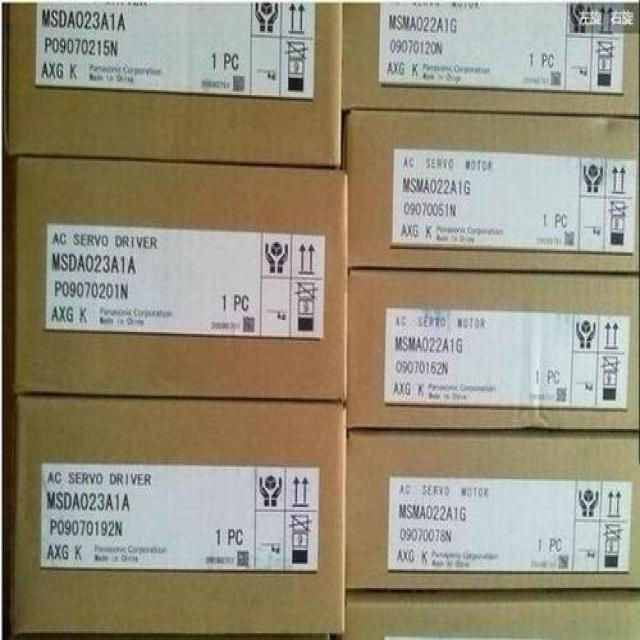box: (3, 153, 347, 403), (0, 393, 347, 636), (6, 2, 345, 168), (345, 112, 639, 275), (346, 268, 639, 431), (345, 429, 639, 589), (343, 0, 639, 119), (344, 588, 639, 638)
